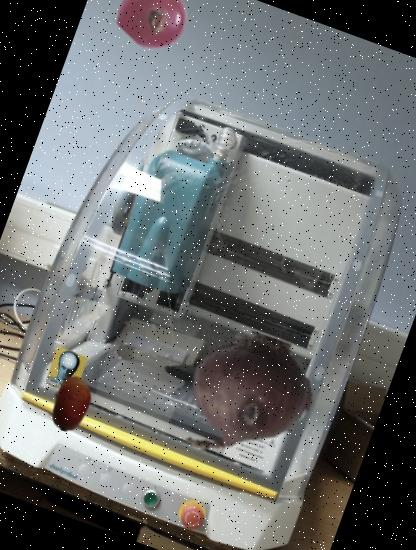Nectarine: (35, 368, 107, 440)
Onion: (166, 315, 332, 482)
Redcurrant: (109, 0, 197, 59)
